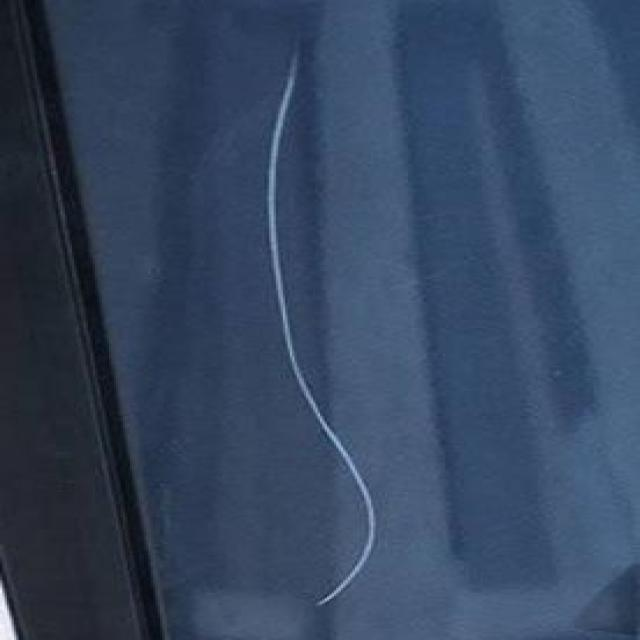scratch: (253, 46, 385, 611)
